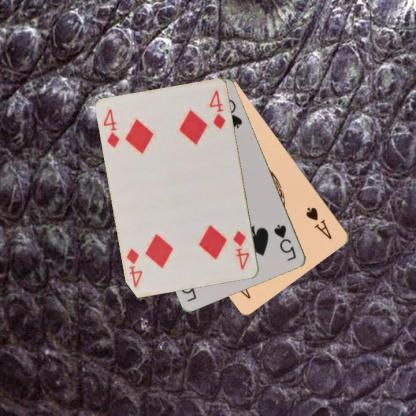4d: (100, 106, 122, 149), (231, 228, 252, 271)
5s: (272, 222, 298, 263)
As: (304, 204, 334, 241)
